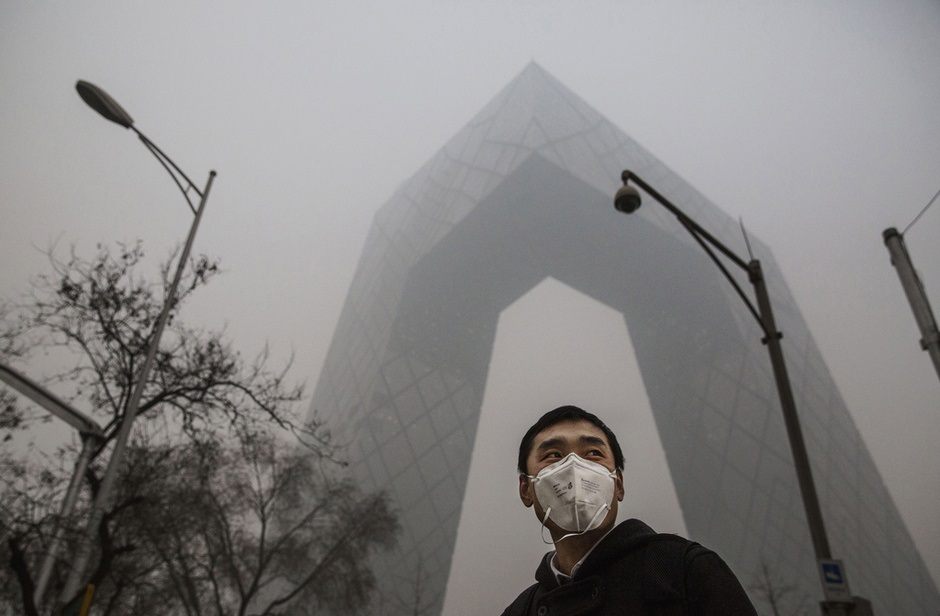face_mask: (532, 428, 615, 536)
